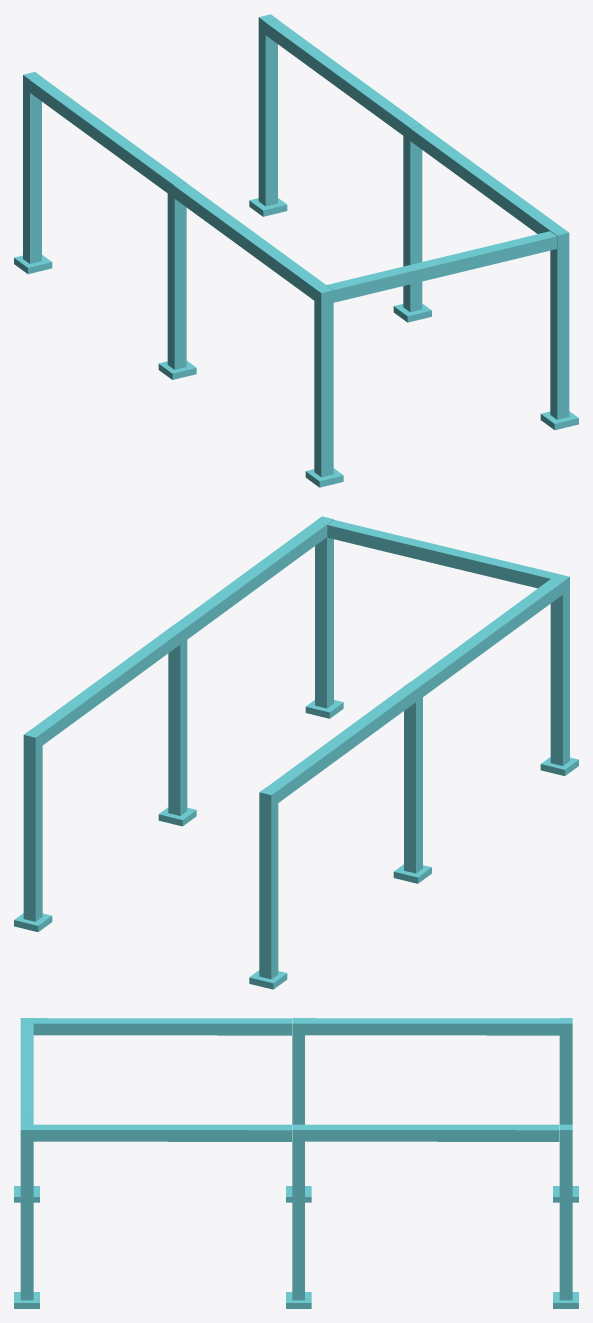
Rendered from TrolleyBay.fbx.
The picture shows the model from 3 angles, top to bottom: view 1: azimuth 30°, elevation 25°; view 2: azimuth 150°, elevation 25°; view 3: azimuth 270°, elevation 25°; orthographic projection. The views are drawn at different scales.
Visible parts, largest first — view 1: TrolleyBay; view 2: TrolleyBay; view 3: TrolleyBay.
Boxes of the visible parts, x1,y1,x2,y2 form: TrolleyBay: (14, 14, 578, 487); TrolleyBay: (14, 516, 578, 989); TrolleyBay: (14, 1018, 578, 1308).
Bounding box in the file's own units: 2.14 × 1.5 × 4.37.
